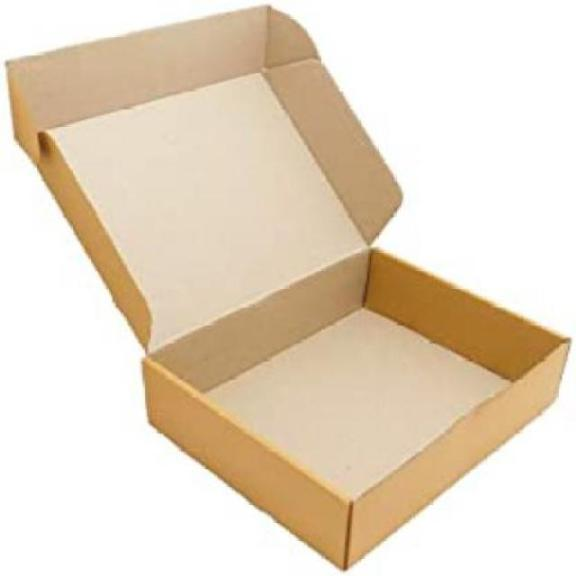Kertas: (7, 7, 569, 569)
